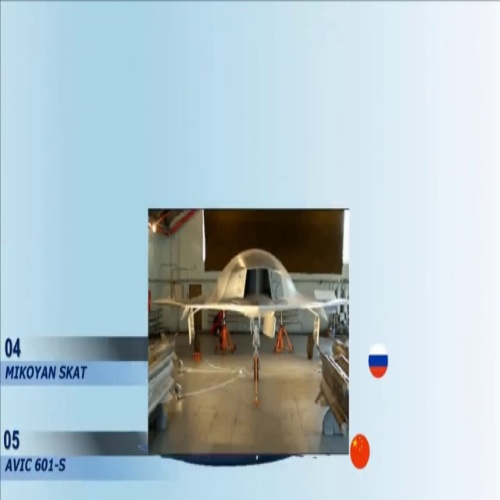uav988: (152, 247, 349, 382)
